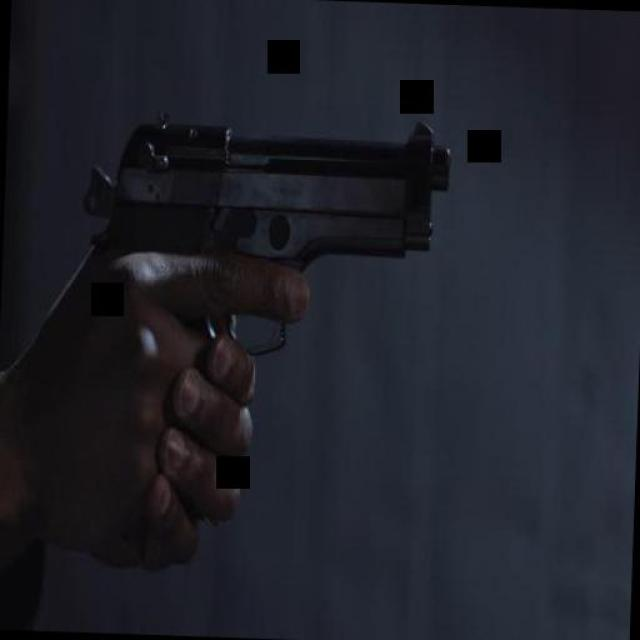gun: (64, 92, 451, 506)
